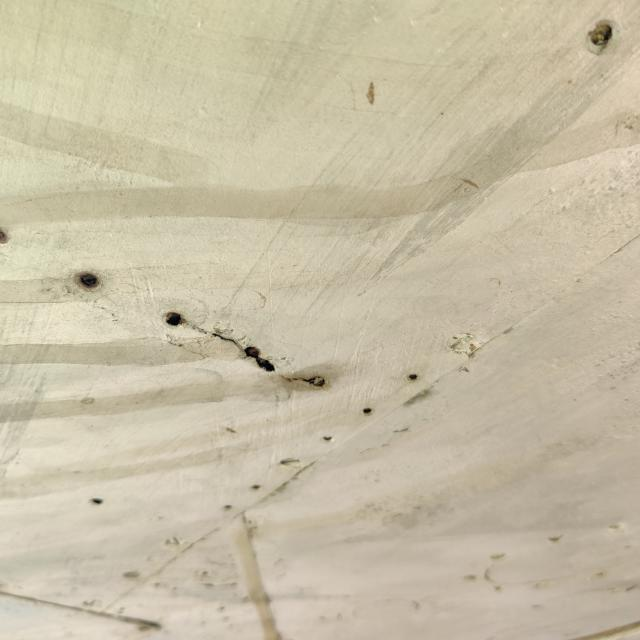Crack: (159, 301, 338, 396)
